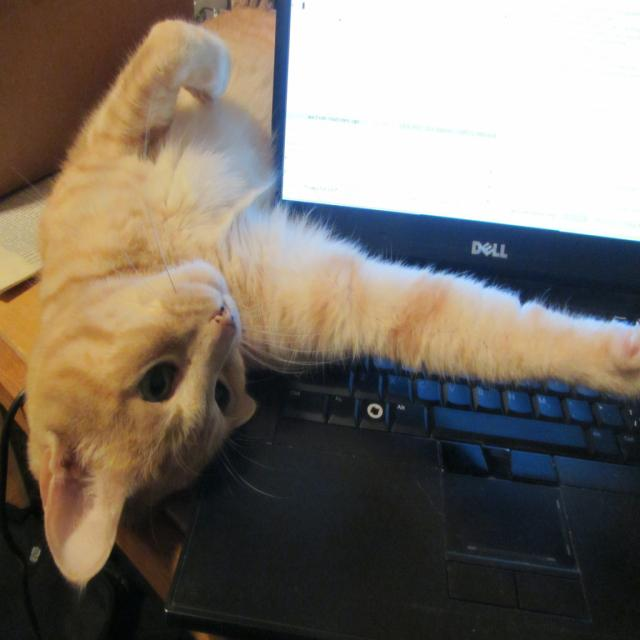Cat: (20, 0, 638, 593)
